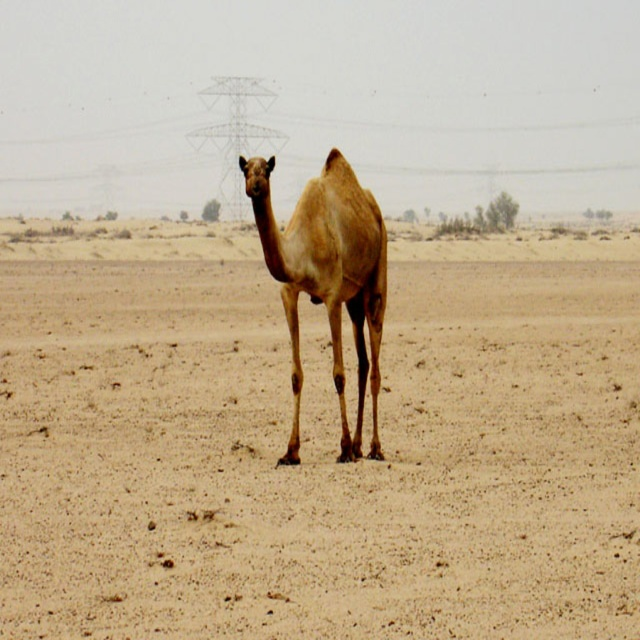Camel: (238, 148, 387, 467)
